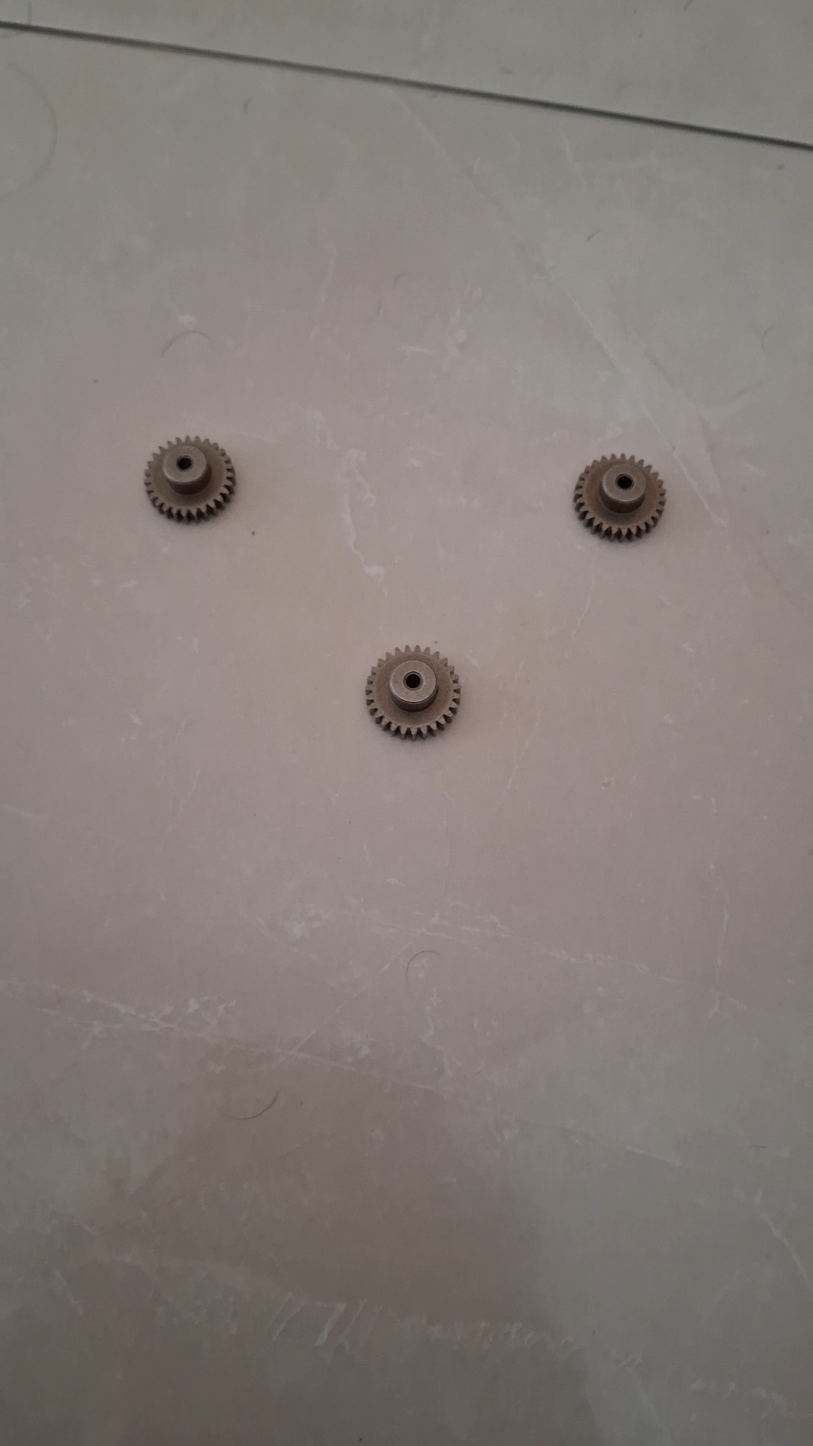spur gear: (366, 648, 460, 737), (145, 437, 235, 522), (574, 455, 665, 539)
